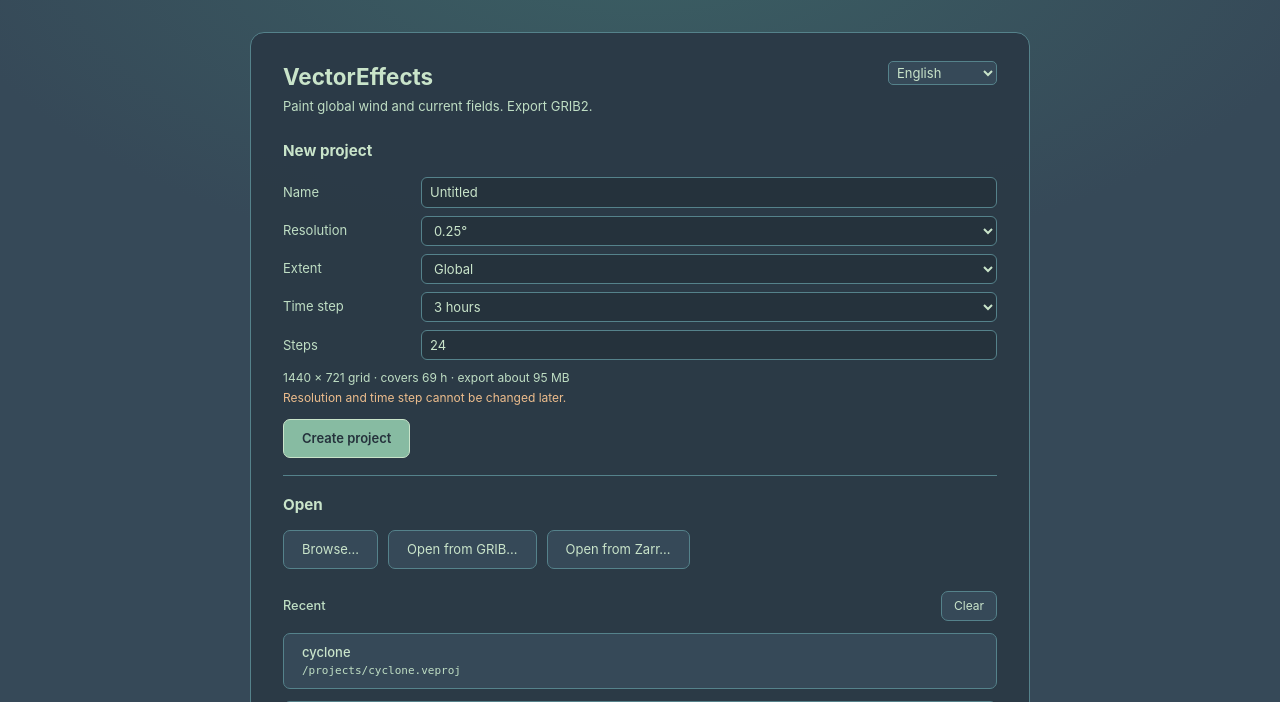
Test: clearing the recent projects list › clears nothing when the confirmation is cancelled
Step 1. Click the button "Clear" → click(969, 606), box x1=941 y1=591 x2=997 y2=620
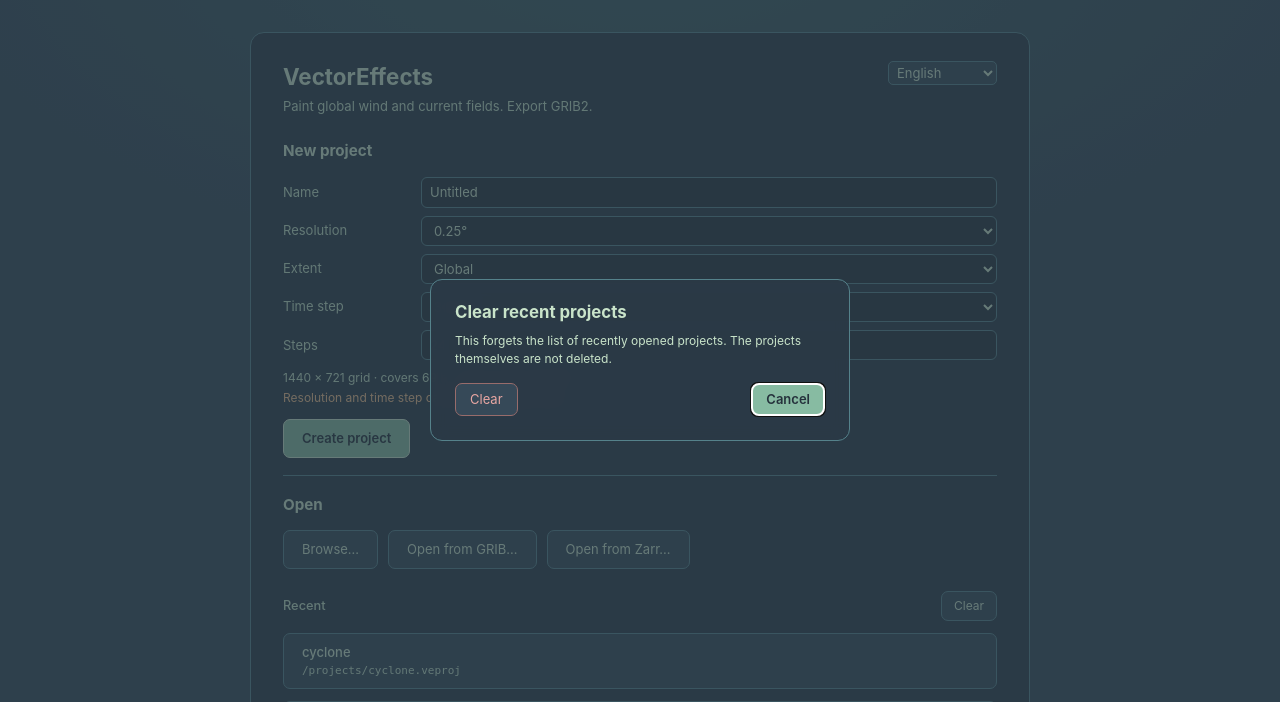
Step 2. Click the button "Cancel" → click(788, 400), box x1=751 y1=383 x2=825 y2=416
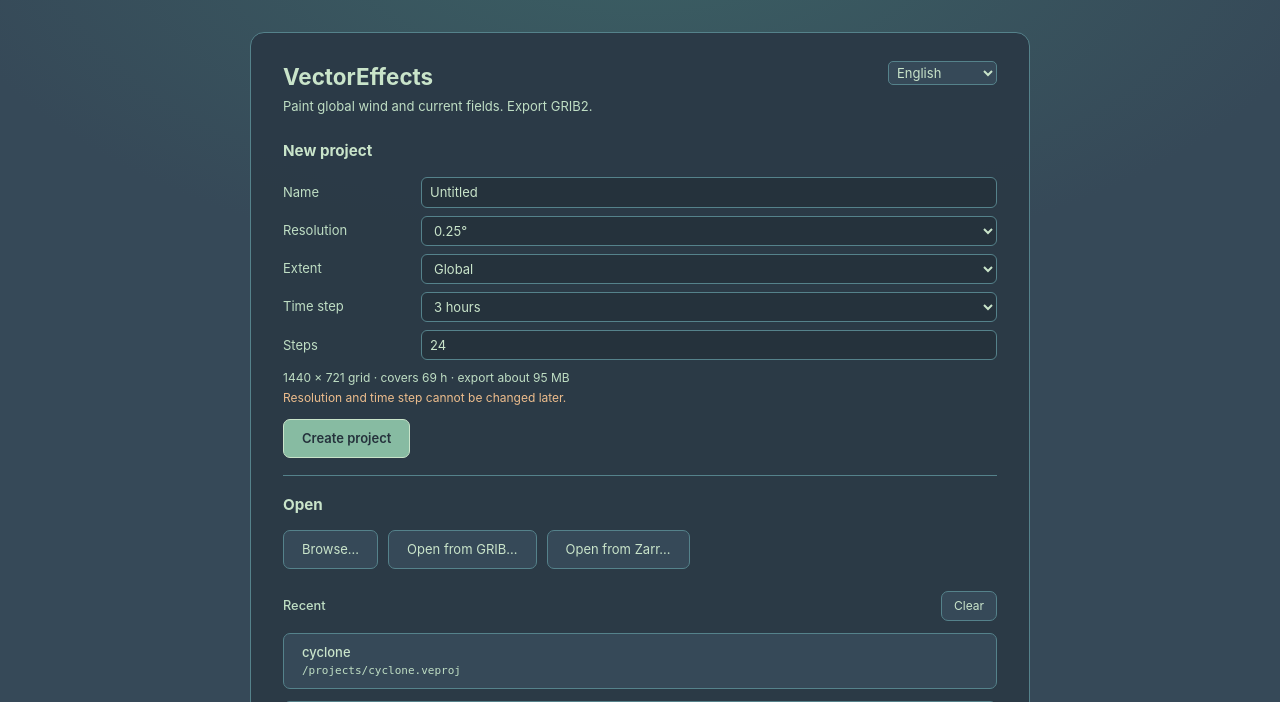
Expected: the text "cyclone" is shown, x1=302 y1=642 x2=351 y2=661
Expected: the text "Clear recent projects" is gone
